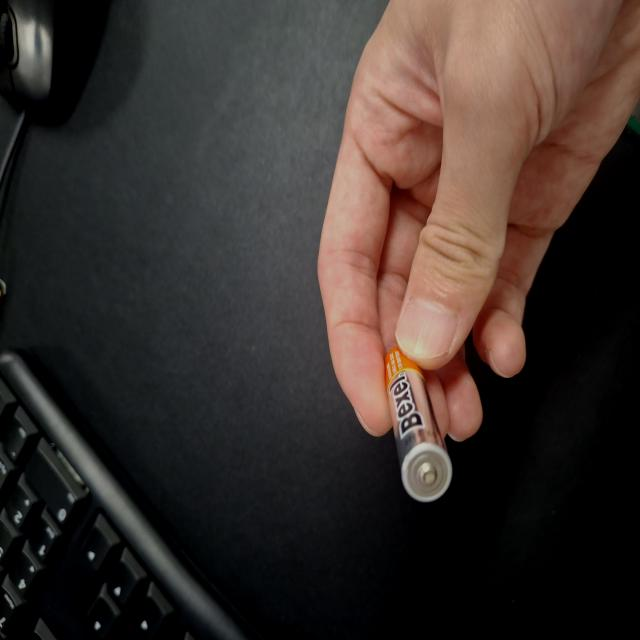AA: (103, 514, 220, 604)
